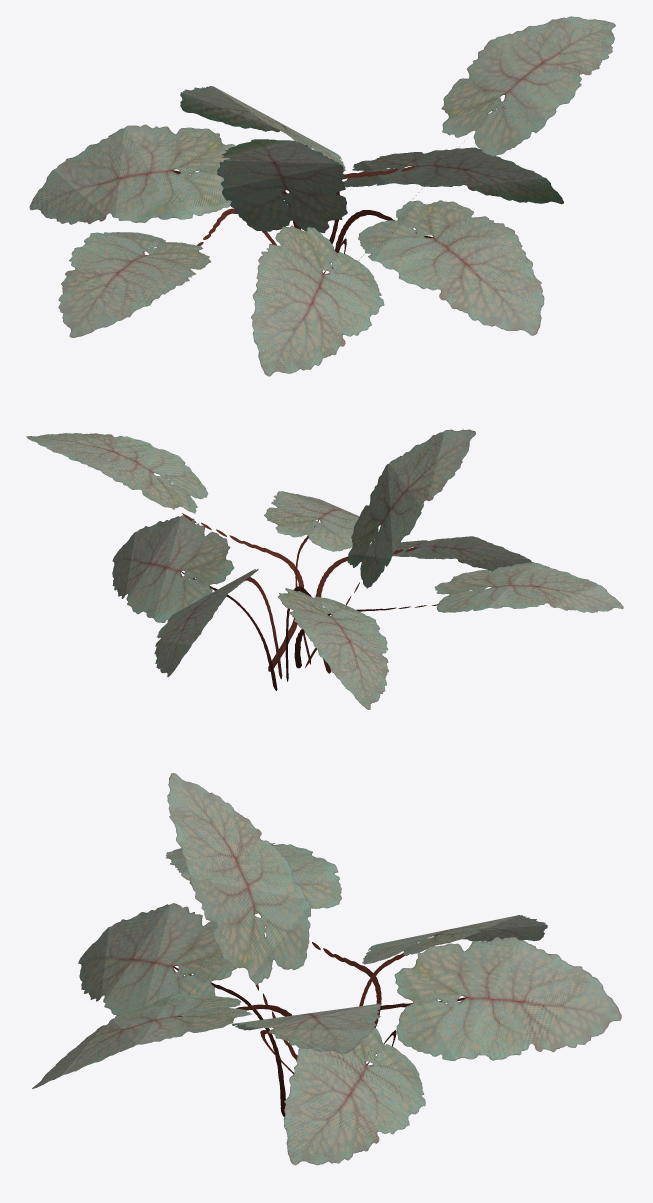
File: Spin Reef D2.fbx
The picture shows the model from 3 angles, top to bottom: view 1: azimuth 30°, elevation 25°; view 2: azimuth 150°, elevation 25°; view 3: azimuth 270°, elevation 25°; orthographic projection. The views are drawn at different scales.
Parts seen in each view (by area): view 1: Spin Reef D2; view 2: Spin Reef D2; view 3: Spin Reef D2.
Boxes of the visible parts, box(x1,y1,x2,y2) form: Spin Reef D2: box(29, 16, 615, 376); Spin Reef D2: box(26, 429, 623, 709); Spin Reef D2: box(32, 773, 621, 1165).
Size of the model in its own units: 242 by 102 by 190.
